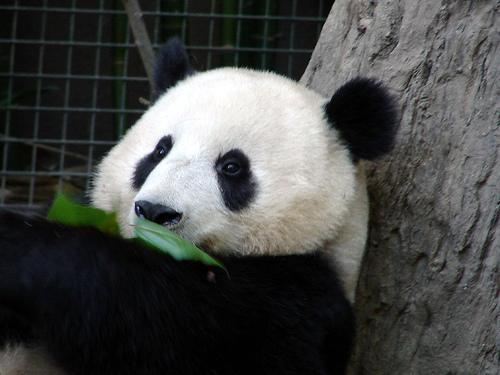panda: (0, 39, 397, 374)
